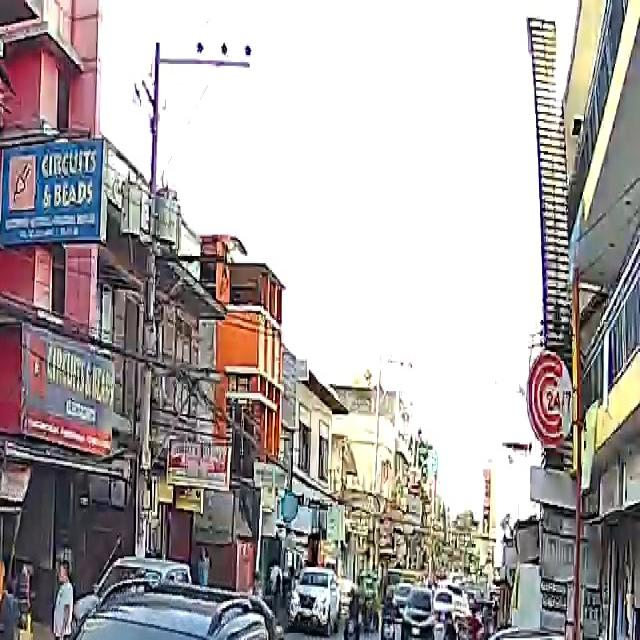car: (0, 574, 324, 640), (291, 571, 342, 634), (400, 579, 440, 640), (466, 629, 584, 640)
